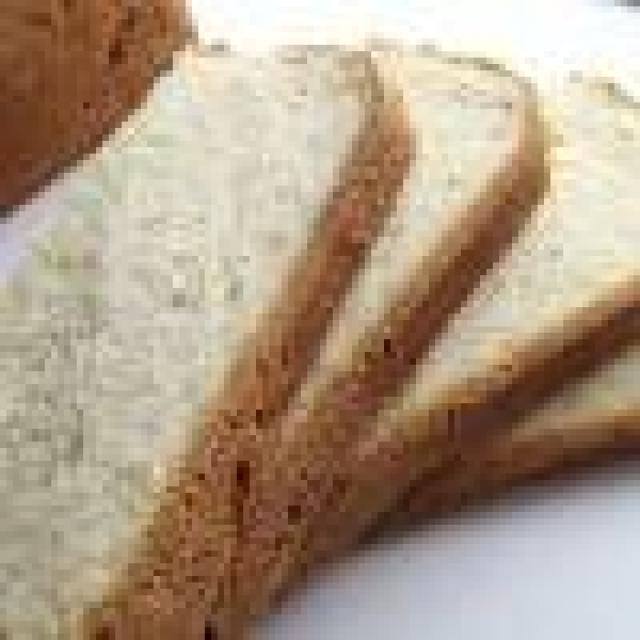Bread: (0, 49, 365, 639), (396, 78, 640, 437)
